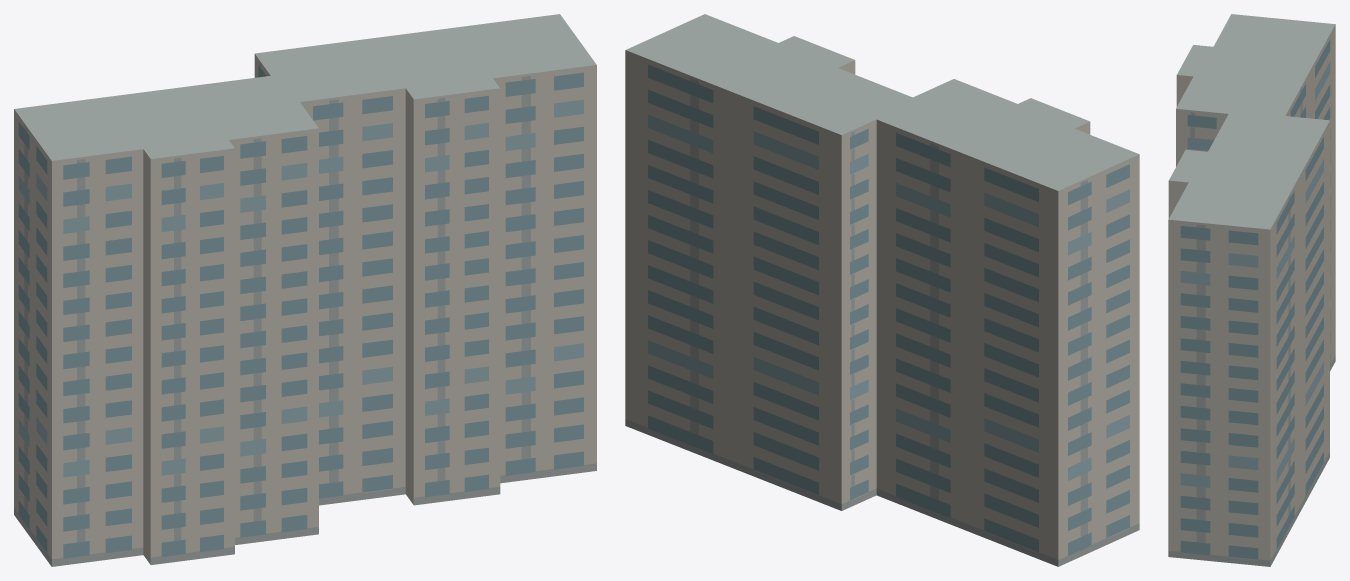
The model's file is residential-214bcf54-5181-4034-9fd5-1f898d45193d.glb.
3 views of the same model, side by side, from view 1: azimuth 30°, elevation 25°; view 2: azimuth 150°, elevation 25°; view 3: azimuth 270°, elevation 25° (orthographic). The views are drawn at different scales.
Visible parts, largest first — view 1: residential-214bcf54-5181-4034-9fd5-1f898d45193d.tmp; view 2: residential-214bcf54-5181-4034-9fd5-1f898d45193d.tmp; view 3: residential-214bcf54-5181-4034-9fd5-1f898d45193d.tmp.
Part boxes in pixels (left/top/right/bottom): residential-214bcf54-5181-4034-9fd5-1f898d45193d.tmp: left=14, top=14, right=596, bottom=566; residential-214bcf54-5181-4034-9fd5-1f898d45193d.tmp: left=625, top=14, right=1139, bottom=566; residential-214bcf54-5181-4034-9fd5-1f898d45193d.tmp: left=1168, top=14, right=1335, bottom=566.
Size of the model in its own units: 57.57 by 42 by 18.86.
